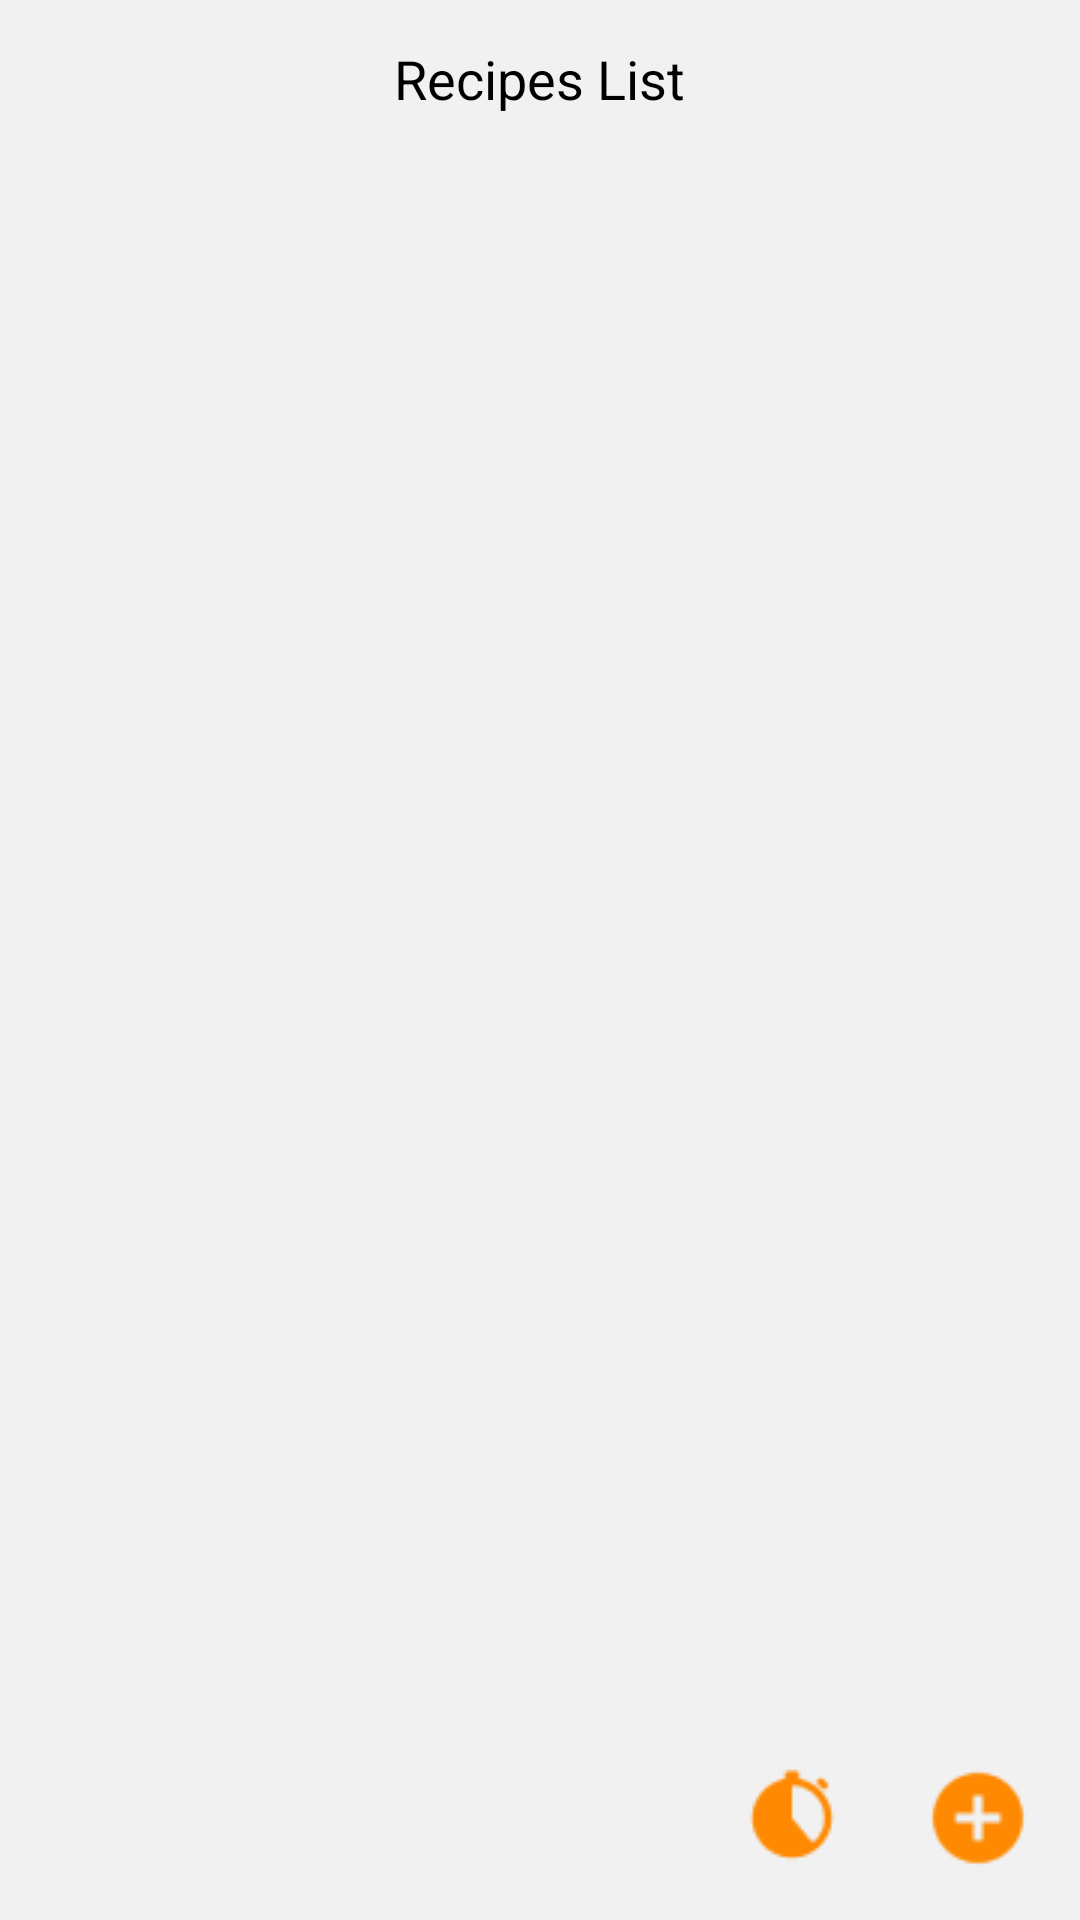

Icons on this 1080 × 1920 Android screen, each with the point to tap as (x=x, y=y):
add recipe: (x=978, y=1818)
timer: (x=792, y=1814)
